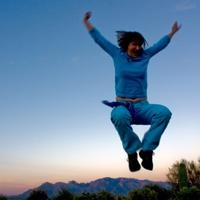person without safety: (106, 26, 175, 173)
